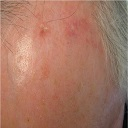Actinic: (36, 24, 52, 37)
